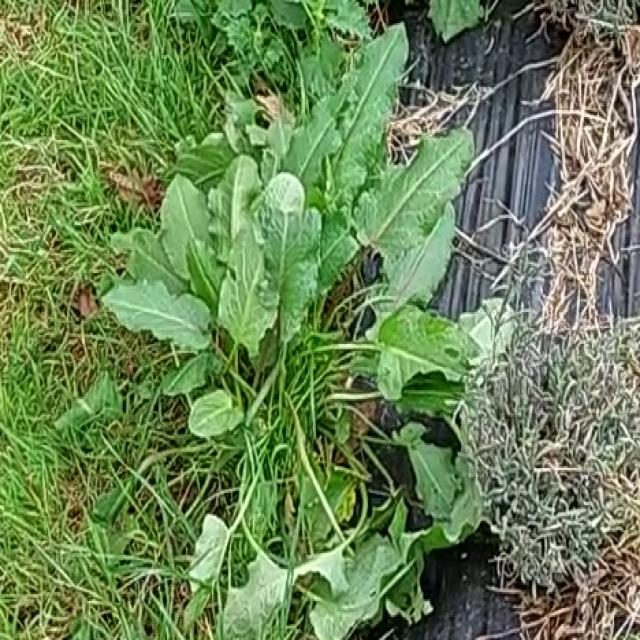organic waste: (87, 25, 528, 624)
